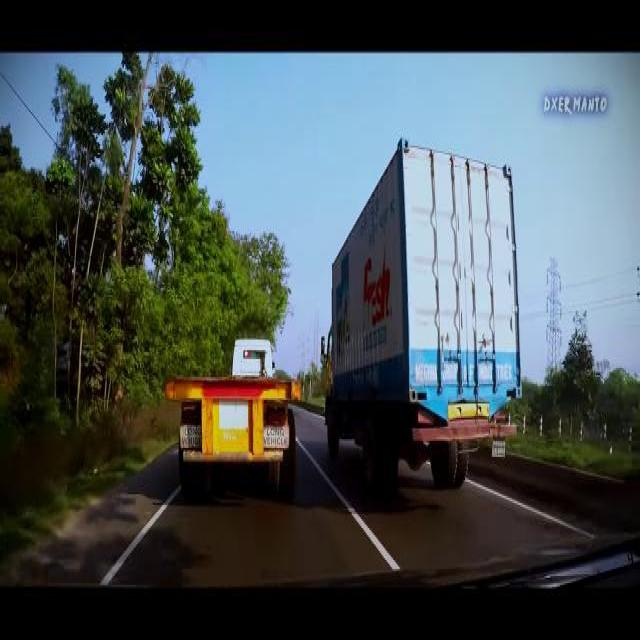truck: (319, 130, 525, 487), (161, 334, 304, 503)
